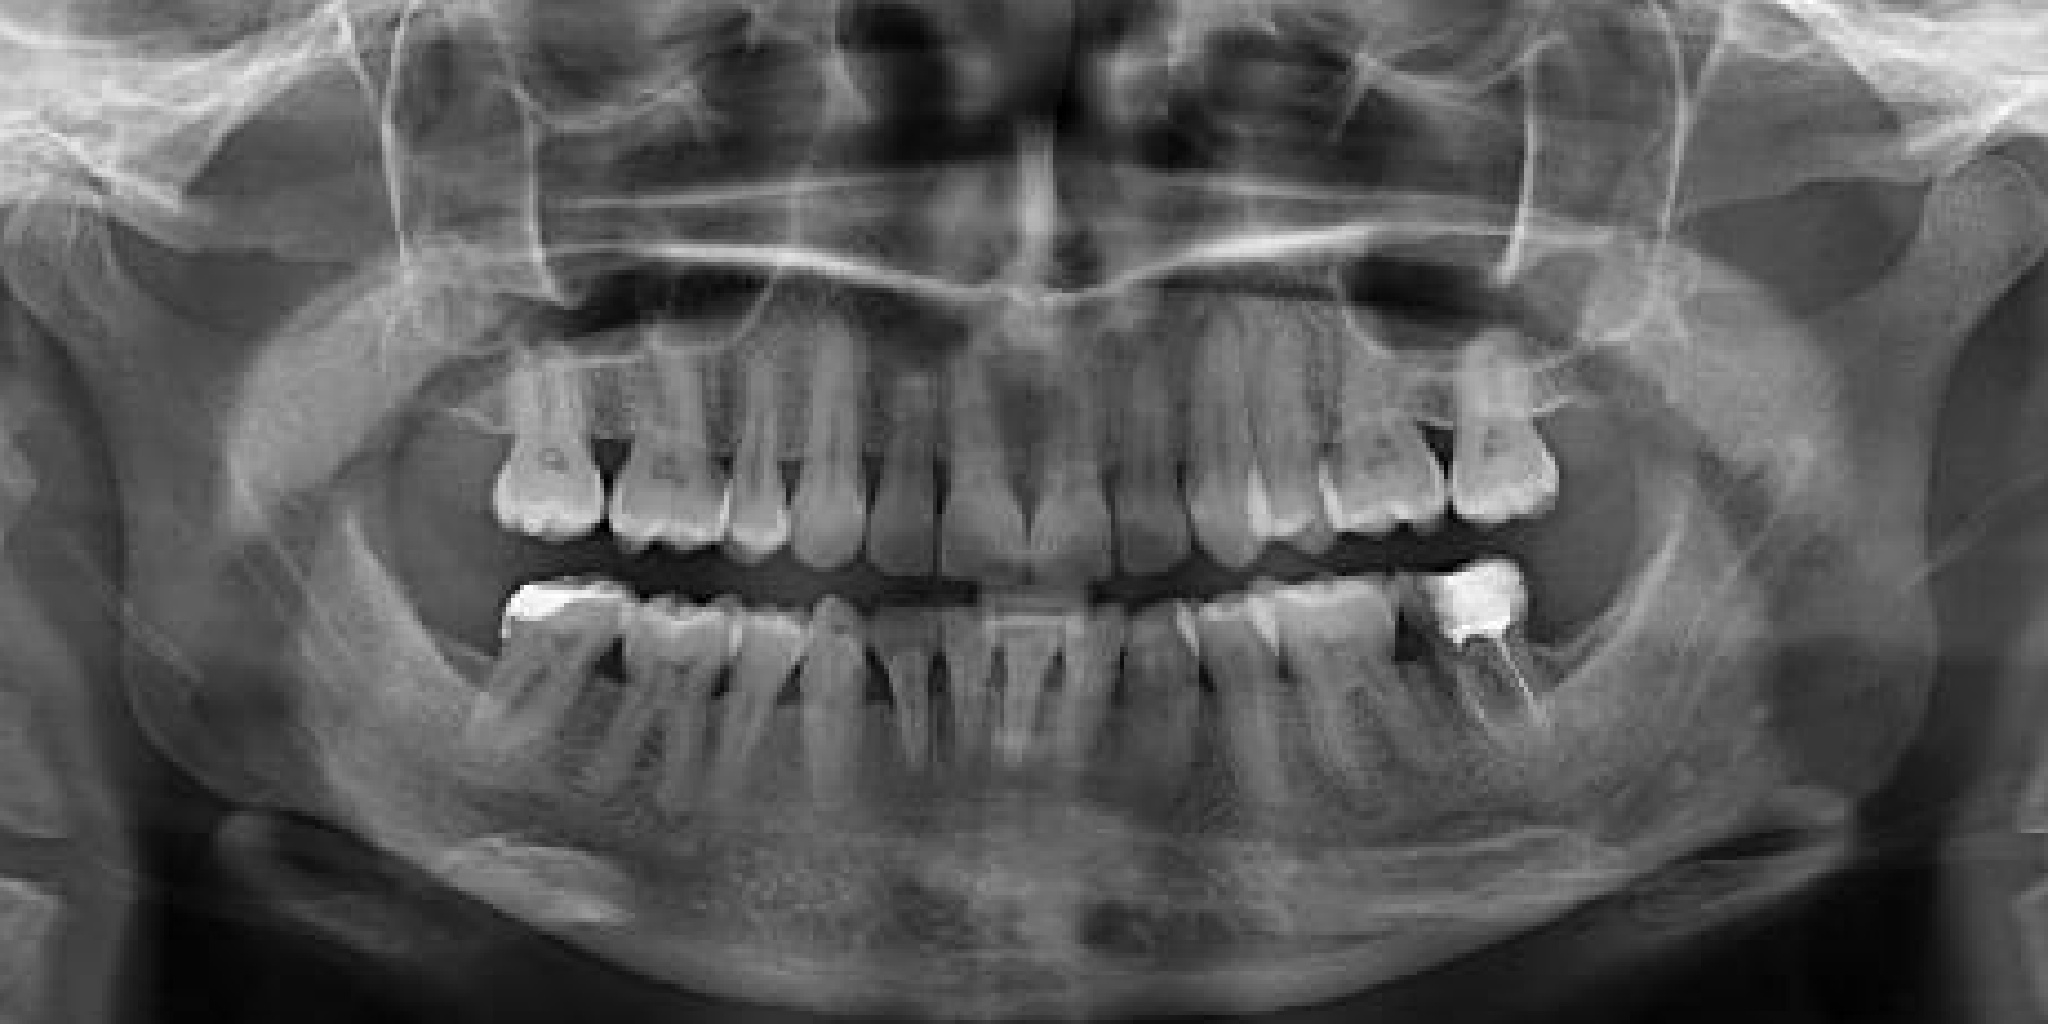Tooth: (1169, 481, 1565, 921), (346, 460, 718, 906), (458, 492, 831, 938), (1100, 495, 1408, 936), (590, 491, 899, 933), (1337, 455, 1629, 892), (392, 196, 683, 633), (1219, 193, 1510, 630), (537, 212, 816, 645), (882, 494, 1153, 925), (778, 227, 1045, 654), (950, 502, 1209, 927), (788, 498, 1041, 921), (1370, 182, 1617, 603), (1031, 522, 1277, 944), (856, 232, 1091, 649), (1105, 201, 1339, 616), (1173, 202, 1400, 616), (1038, 227, 1266, 640), (852, 500, 1079, 913), (721, 534, 948, 947), (639, 221, 866, 633), (718, 202, 946, 615), (959, 235, 1186, 648)
